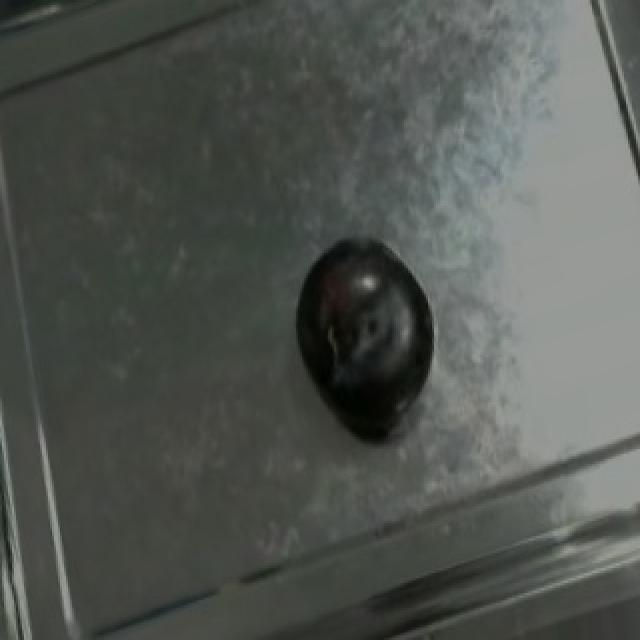Fruit: (280, 220, 452, 442)
